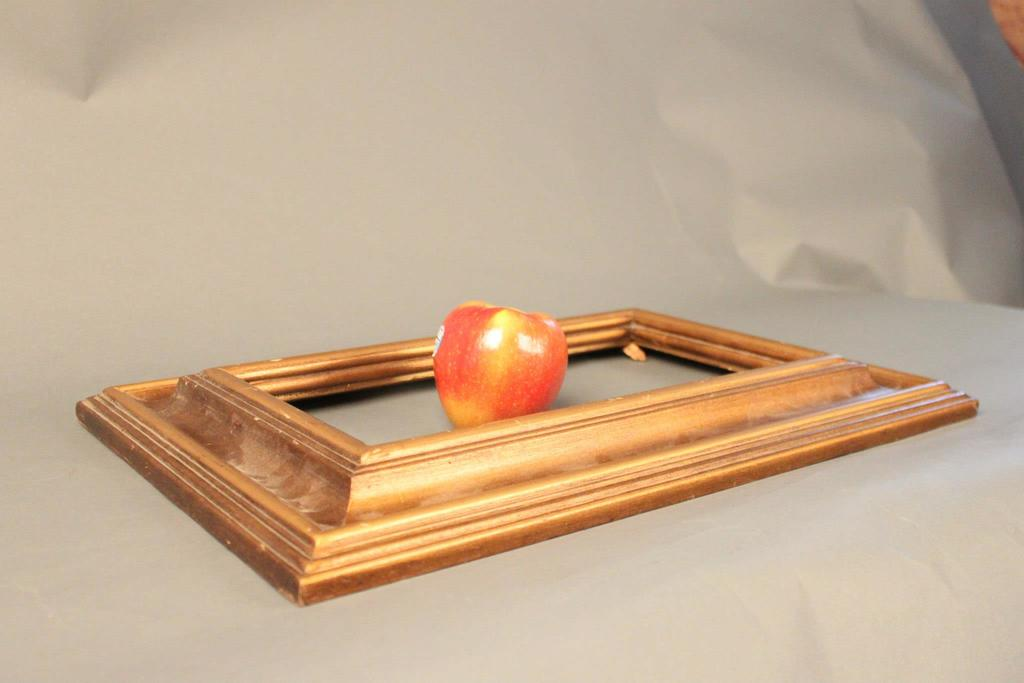Apple: (435, 311, 567, 439)
